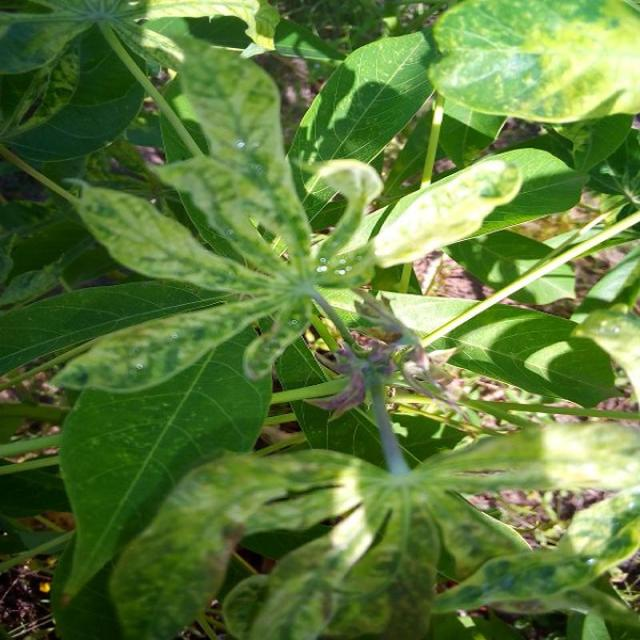cassava leaf: (5, 2, 638, 637), (55, 304, 275, 603), (429, 0, 640, 126)
